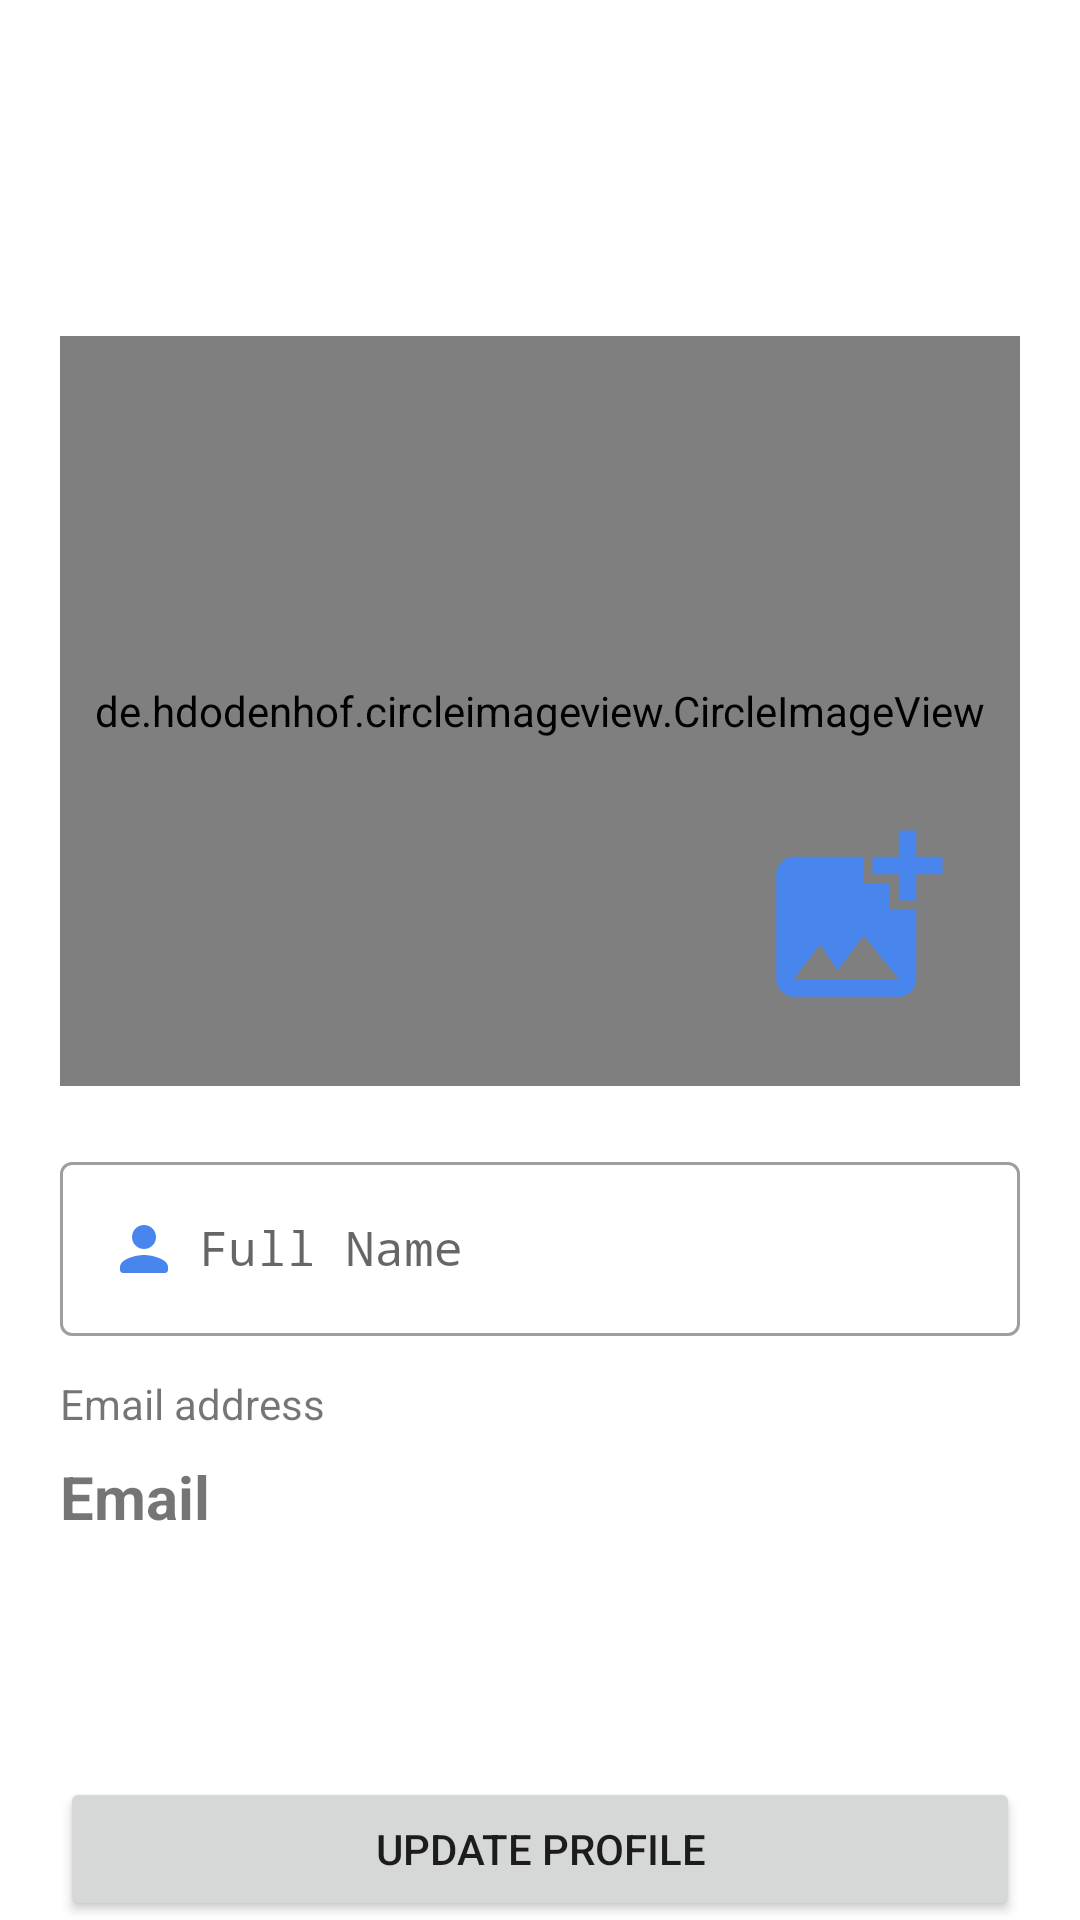

Icons on this 1080 x 1920 Android screen, each with its box as (x1, y1, x2, y2):
add photo: (776, 830, 943, 997)
